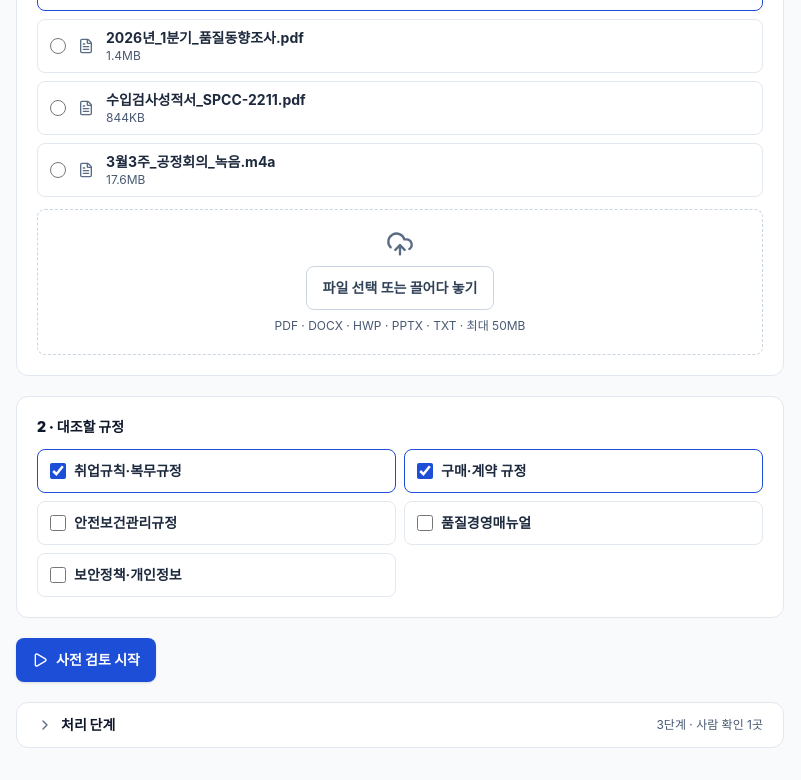
ReviewPage › 검토 결과에 조항·조치가 함께 나온다 — 근거 없는 지적을 두지 않는다
(page scrolled)
Step 1. Click the button "사전 검토 시작" → (86, 660), box top-left (16, 638), bottom-right (156, 682)
(page scrolled)
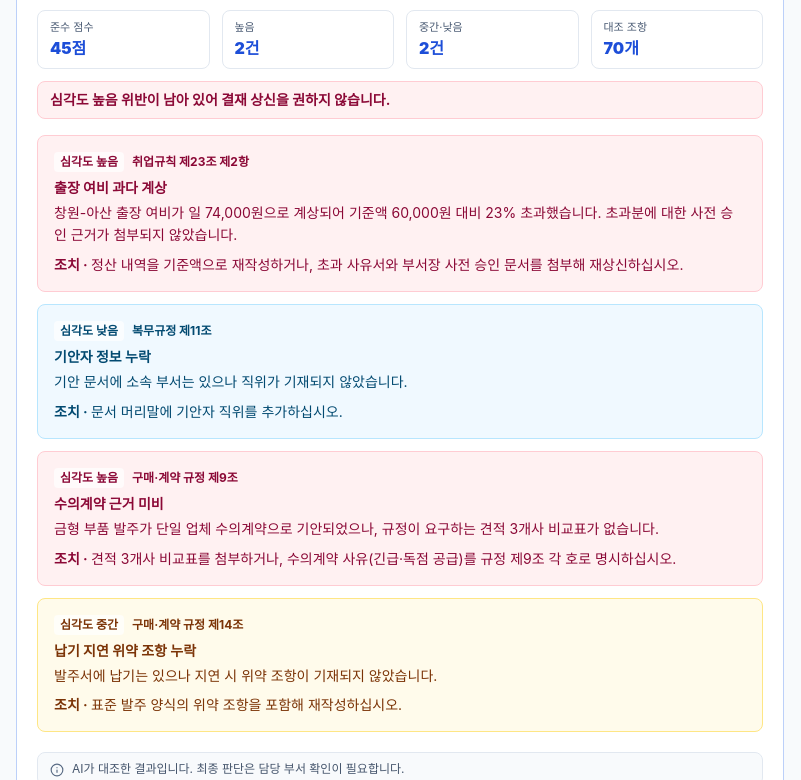
Now the element "검토 결과" shows "취업규칙 제23조 제2항", box top-left (132, 154), bottom-right (249, 168)
Now the element "검토 결과" shows "조치 ·", box top-left (54, 256), bottom-right (91, 273)
